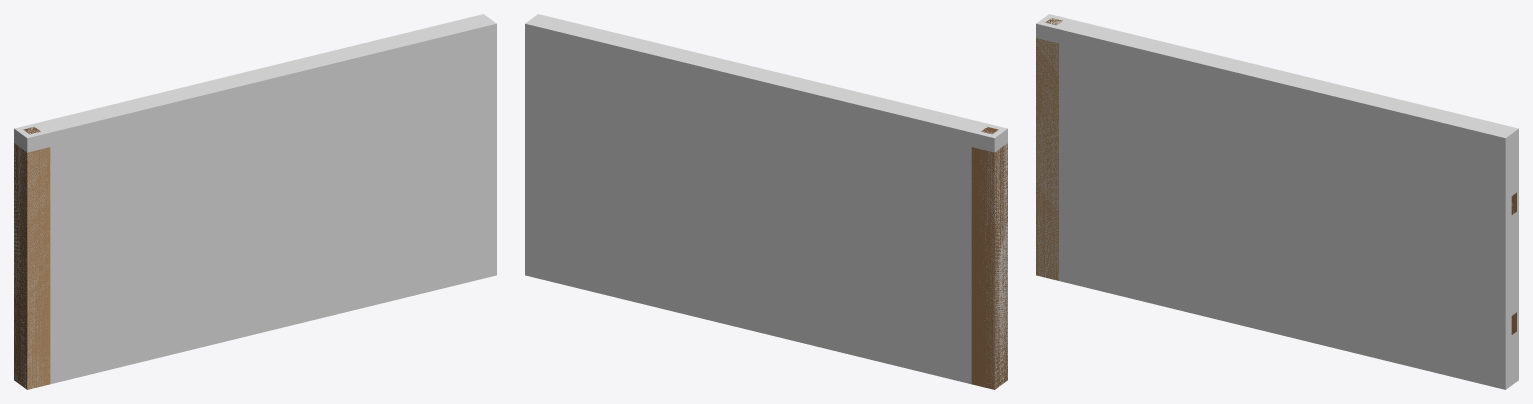
The model's file is FMS_Fence_Picket.fbx.
3 renders of one model, left to right at view 1: azimuth 30°, elevation 25°; view 2: azimuth 150°, elevation 25°; view 3: azimuth 330°, elevation 25°, orthographic.
Visible parts, largest first — view 1: FMS_Fence_Picket_Col, FMS_Fence_Picket_LOD0; view 2: FMS_Fence_Picket_Col, FMS_Fence_Picket_LOD0; view 3: FMS_Fence_Picket_Col, FMS_Fence_Picket_LOD0.
Part boxes in pixels (x1,y1,x2,y2): FMS_Fence_Picket_Col: (14,14,496,388); FMS_Fence_Picket_LOD0: (14,127,50,389); FMS_Fence_Picket_Col: (525,14,1007,389); FMS_Fence_Picket_LOD0: (971,127,1007,389); FMS_Fence_Picket_Col: (1036,14,1518,389); FMS_Fence_Picket_LOD0: (1036,18,1516,334).
Size of what is drawn, in the model's own units: 2.05 by 1.05 by 0.1.
1 material, 1 textured.
